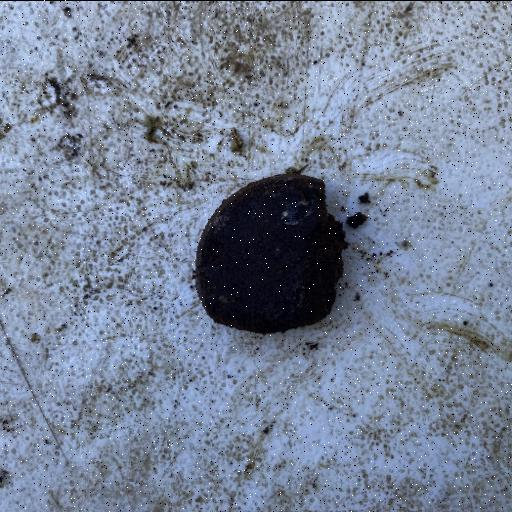Waste: (192, 172, 348, 335)
